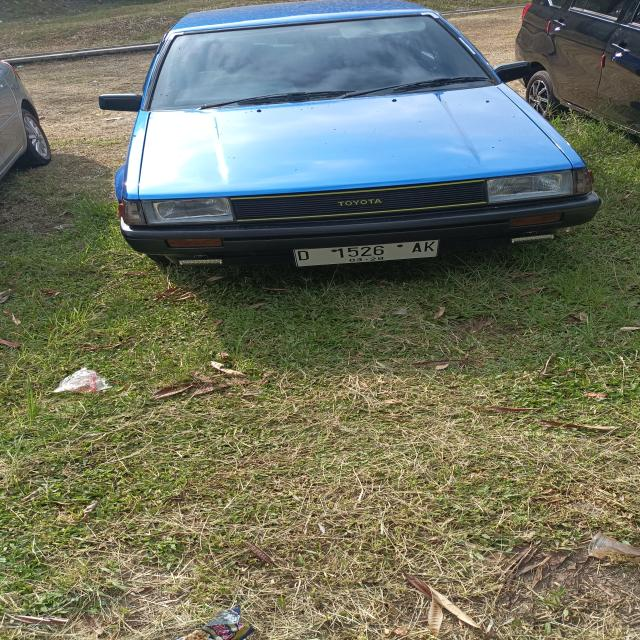license-plat: (289, 237, 441, 272)
